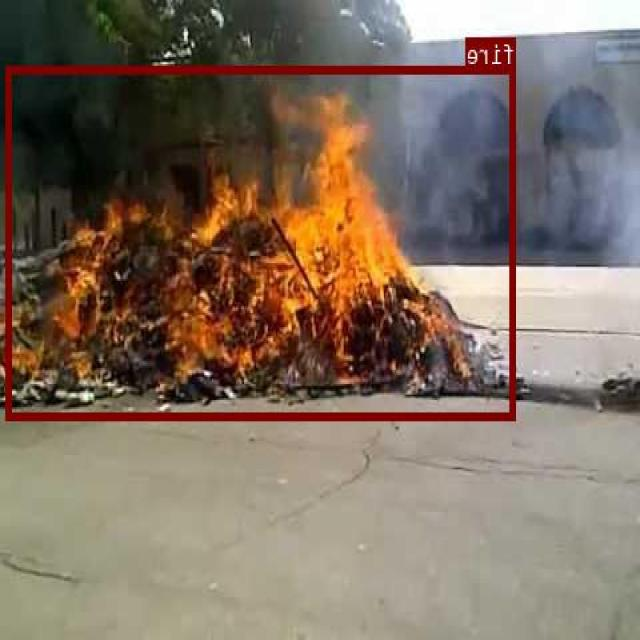fire: (8, 64, 516, 420)
